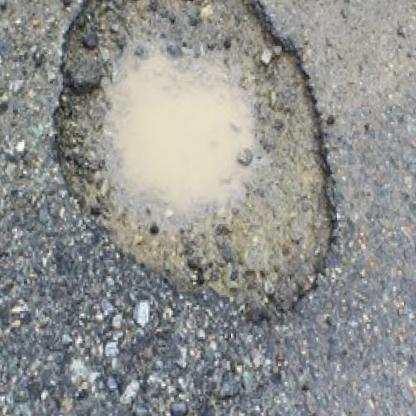pothole: (40, 0, 347, 337)
